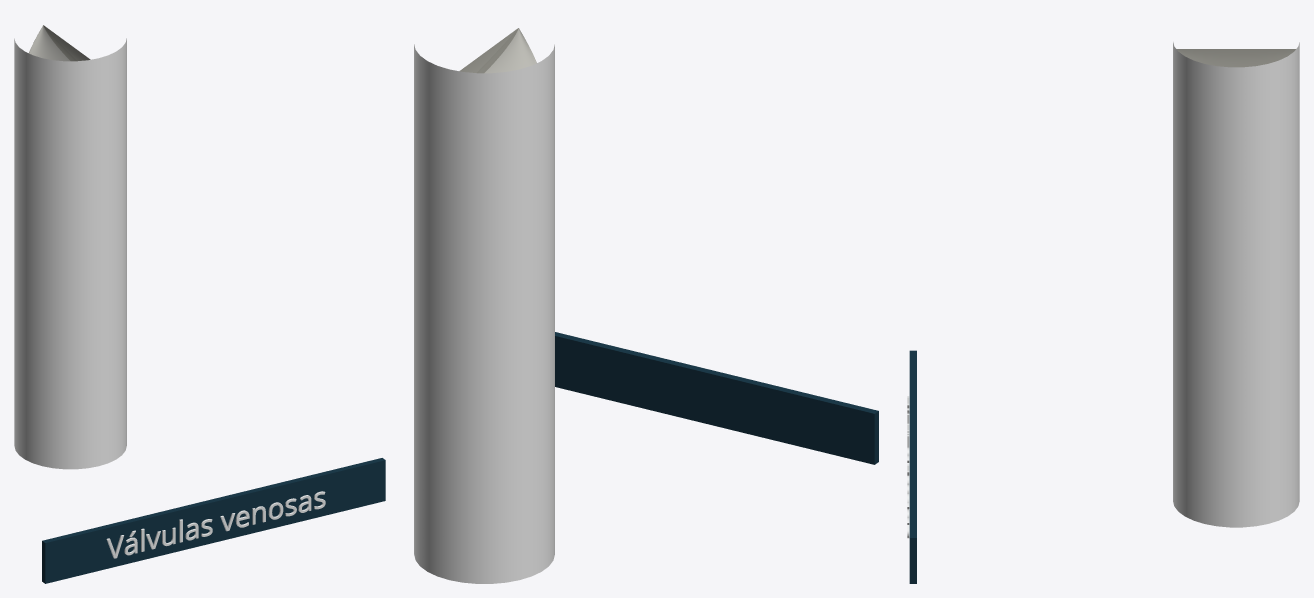
Rendered from nivel-3.glb.
3 renders of one model, left to right at view 1: azimuth 30°, elevation 25°; view 2: azimuth 150°, elevation 25°; view 3: azimuth 270°, elevation 25°, orthographic. The views are drawn at different scales.
Visible parts, largest first — view 1: movel_1, placa_solida, texto_em_relevo, movel_10-avesso; view 2: movel_1, placa_solida, movel_10-avesso, movel_9; view 3: movel_1, placa_solida, movel_9-avesso, movel_10.
Boxes of the visible parts, x1=… form: movel_1: x1=14, y1=38, x2=126, y2=469; placa_solida: x1=42, y1=458, x2=385, y2=583; texto_em_relevo: x1=106, y1=491, x2=325, y2=558; movel_10-avesso: x1=29, y1=25, x2=90, y2=61; movel_1: x1=414, y1=44, x2=554, y2=583; placa_solida: x1=555, y1=332, x2=878, y2=464; movel_10-avesso: x1=459, y1=28, x2=536, y2=73; movel_9: x1=461, y1=29, x2=517, y2=72; movel_1: x1=1173, y1=42, x2=1299, y2=527; placa_solida: x1=909, y1=350, x2=916, y2=583; movel_9-avesso: x1=1176, y1=49, x2=1295, y2=67; movel_10: x1=1177, y1=49, x2=1295, y2=66.
Size of the model in its own units: 0.48 by 0.55 by 0.4253.
